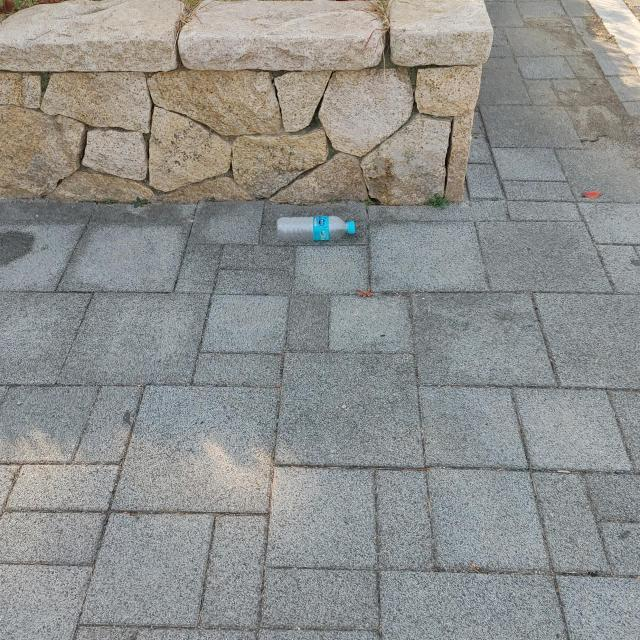plastic: (277, 216, 356, 242)
